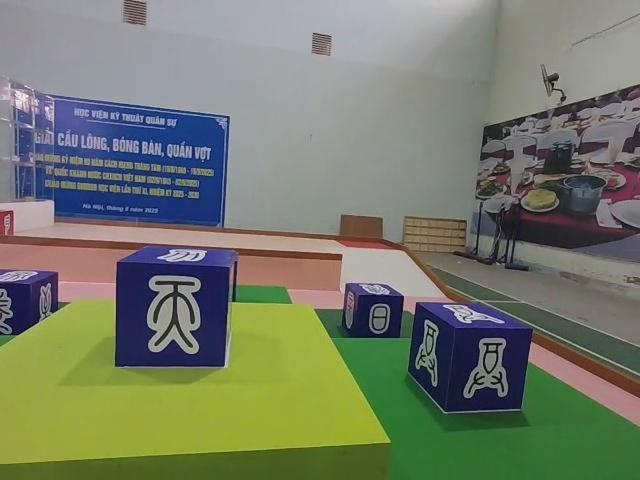R2 Fake Blue: (117, 247, 242, 373), (0, 267, 58, 336), (341, 284, 403, 341)
R2 Real Blue: (410, 305, 534, 417)
